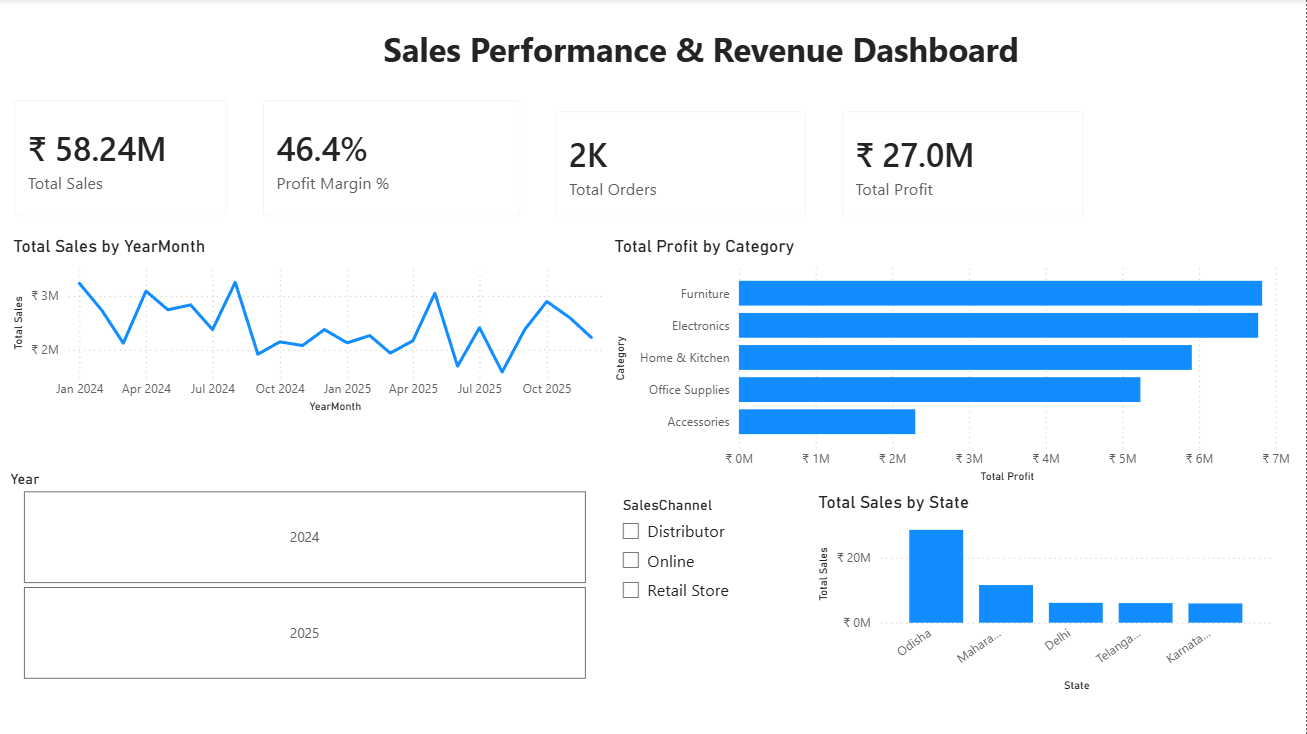

Layout of this report page (visuals, bound fields, positions):
{"tool":"powerbi","page":{"name":"Page 1","canvas":[1280,720],"ordinal":0},"visuals":[{"type":"cardVisual","fields":{"Data":["Sales.Total Sales"]},"box":[0,82.3,242.9,148.2],"z":0},{"type":"cardVisual","fields":{"Data":["Sales.Total Profit"]},"box":[809.6,93.3,271.7,137.2],"z":1000},{"type":"cardVisual","fields":{"Data":["Sales.Profit Margin %"]},"box":[242.9,82.3,286.8,148.2],"z":2000},{"type":"cardVisual","fields":{"Data":["Sales.Total Orders"]},"box":[529.7,93.3,279.9,137.2],"z":3000},{"type":"lineChart","fields":{"Category":["Date.YearMonth"],"Y":["Sales.Total Sales"]},"box":[11,230.5,599.7,178.4],"z":4000},{"type":"clusteredBarChart","fields":{"Category":["Products.Category"],"Y":["Sales.Total Profit"]},"box":[599.7,230.5,671,247],"z":5000},{"type":"slicer","fields":{"Values":["Date.Year"]},"box":[0,455.6,599.7,215.4],"z":6000},{"type":"slicer","fields":{"Values":["Sales.SalesChannel"]},"box":[599.7,481.6,199,200.3],"z":7000},{"type":"textbox","box":[373.2,22,708.1,60.4],"z":8000},{"type":"clusteredColumnChart","fields":{"Category":["Customers.State"],"Y":["Sales.Total Sales"]},"box":[798.6,481.6,454.2,200.3],"z":9000}]}

Visuals, with their boxes in screenshot pixels (x1, y1, x2, y2), scaled from the page's 1280x720 canvas onto the 1307x734 screenshot:
cardVisual - Sales.Total Sales: crop(0, 84, 248, 235)
cardVisual - Sales.Total Profit: crop(827, 95, 1104, 235)
cardVisual - Sales.Profit Margin %: crop(248, 84, 541, 235)
cardVisual - Sales.Total Orders: crop(541, 95, 827, 235)
lineChart - Date.YearMonth x Sales.Total Sales: crop(11, 235, 624, 417)
clusteredBarChart - Products.Category x Sales.Total Profit: crop(612, 235, 1298, 487)
slicer - Date.Year: crop(0, 464, 612, 684)
slicer - Sales.SalesChannel: crop(612, 491, 816, 695)
textbox: crop(381, 22, 1104, 84)
clusteredColumnChart - Customers.State x Sales.Total Sales: crop(815, 491, 1279, 695)
